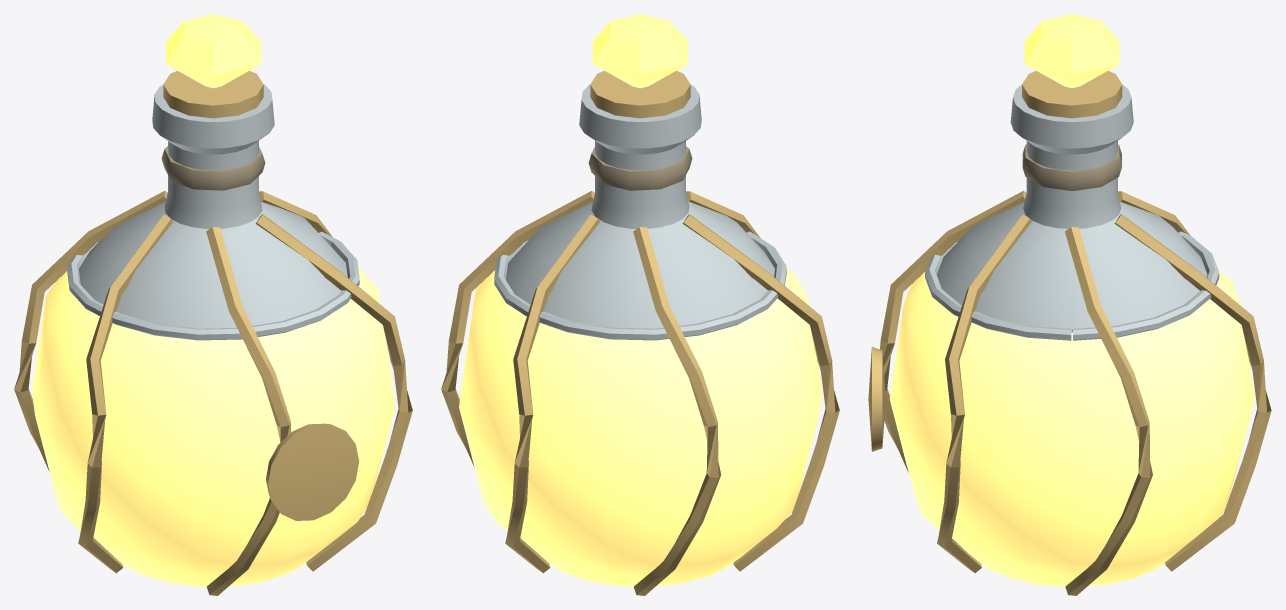
File: fortune_elixir.glb
3 views of the same model, side by side, from view 1: azimuth 30°, elevation 25°; view 2: azimuth 150°, elevation 25°; view 3: azimuth 270°, elevation 25° (orthographic).
Parts seen in each view (by area): view 1: fortune_elixir; view 2: fortune_elixir; view 3: fortune_elixir.
Boxes of the visible parts, left/top/right/bottom form: fortune_elixir: left=14, top=14, right=412, bottom=595; fortune_elixir: left=441, top=14, right=839, bottom=595; fortune_elixir: left=868, top=14, right=1271, bottom=595.
Size of the model in its own units: 0.1055 by 0.1654 by 0.1149.
